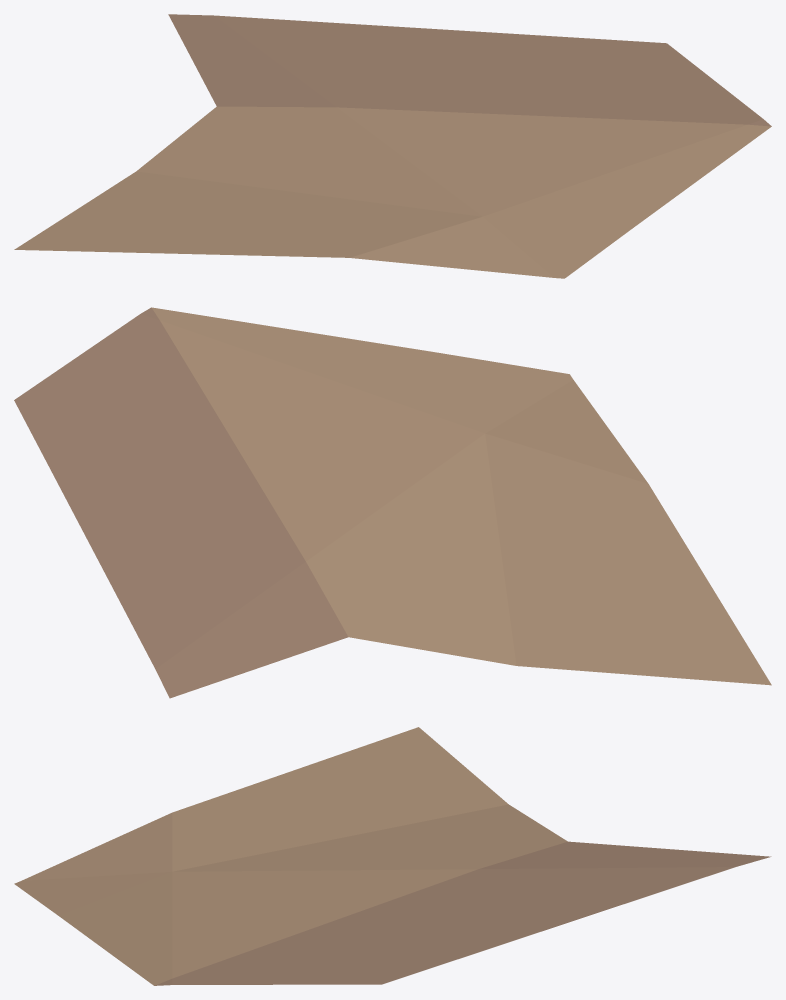
Rendered from farm_-12_-20_soil.glb.
The picture shows the model from 3 angles, top to bottom: view 1: azimuth 30°, elevation 25°; view 2: azimuth 150°, elevation 25°; view 3: azimuth 270°, elevation 25°; orthographic projection. The views are drawn at different scales.
Visible parts, largest first — view 1: geometry_0; view 2: geometry_0; view 3: geometry_0.
Boxes of the visible parts, x1,y1,x2,y2 form: geometry_0: (14, 14, 771, 278); geometry_0: (14, 307, 771, 698); geometry_0: (14, 727, 771, 985).
Size of the model in its own units: 56.18 by 5.45 by 55.33.
